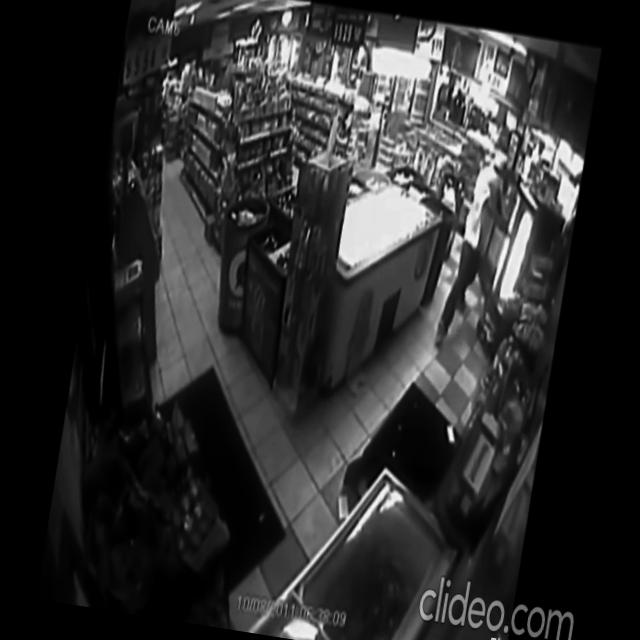gun: (498, 214, 517, 244)
person with a gun: (432, 144, 528, 360)
